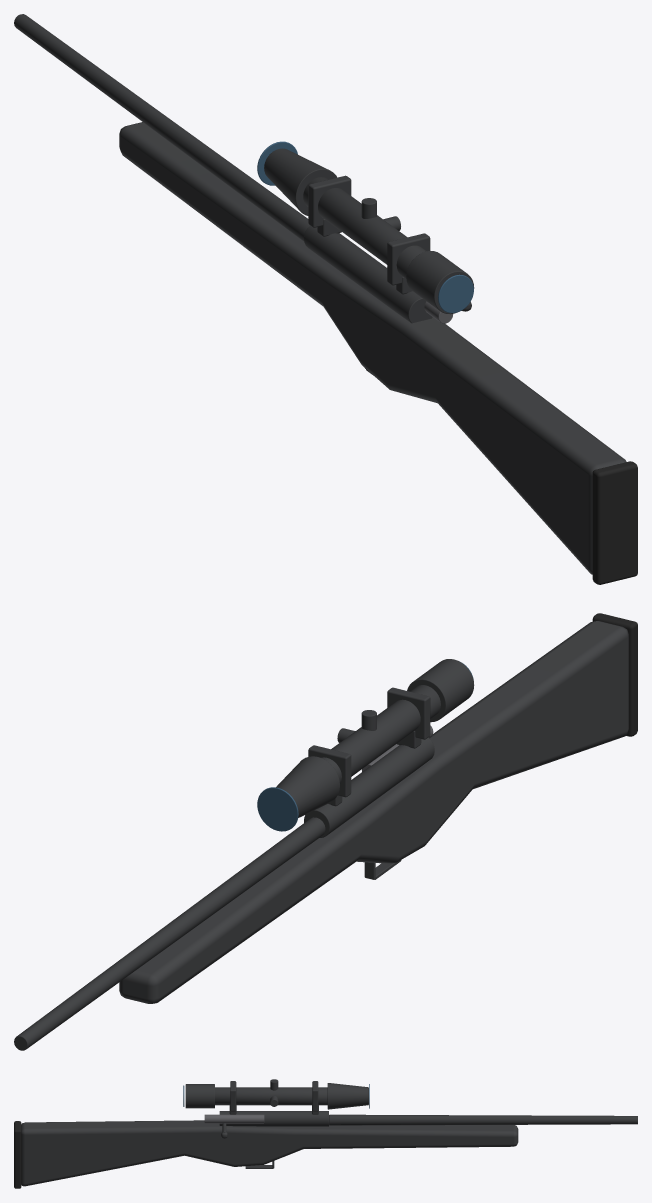
3 views of the same model, one above another, from view 1: azimuth 30°, elevation 25°; view 2: azimuth 150°, elevation 25°; view 3: azimuth 270°, elevation 25° (orthographic). The views are drawn at different scales.
Parts seen in each view (by area): view 1: Stock, Barrel, Buttpad, Receiver, ScopeTube, ScopeBell, ScopeEye, ScopeLensR, ScopeRing.001, ScopeRing; view 2: Stock, Barrel, Receiver, ScopeTube, ScopeBell, ScopeEye, ScopeLensF, Buttpad, ScopeRing, ScopeRing.001; view 3: Stock, Barrel, ScopeTube, Receiver, ScopeBell, ScopeEye, Bolt, Buttpad, ScopeRing.001, ScopeRing.
Part boxes in pixels (box(x1,y1,x2,y2)): Stock: box(119, 122, 626, 574); Barrel: box(14, 14, 309, 241); Buttpad: box(592, 461, 637, 584); Receiver: box(304, 225, 432, 323); ScopeTube: box(303, 177, 426, 278); ScopeBell: box(264, 148, 337, 215); ScopeEye: box(406, 250, 474, 314); ScopeLensR: box(438, 274, 473, 313); ScopeRing.001: box(308, 175, 351, 227); ScopeRing: box(387, 233, 430, 285); Stock: box(119, 621, 628, 1003); Barrel: box(14, 817, 325, 1050); Receiver: box(304, 737, 434, 837); ScopeTube: box(321, 685, 440, 783); ScopeBell: box(276, 756, 339, 817); ScopeEye: box(407, 659, 474, 722); ScopeLensF: box(257, 787, 298, 831); Buttpad: box(592, 613, 637, 736); ScopeRing: box(387, 687, 430, 739); ScopeRing.001: box(308, 745, 351, 797); Stock: box(21, 1120, 518, 1186); Barrel: box(329, 1114, 637, 1125); ScopeTube: box(215, 1087, 327, 1105); Receiver: box(219, 1111, 328, 1126); ScopeBell: box(327, 1083, 368, 1109); ScopeEye: box(185, 1084, 214, 1108); Bolt: box(204, 1114, 264, 1123); Buttpad: box(14, 1121, 21, 1188); ScopeRing.001: box(312, 1081, 318, 1111); ScopeRing: box(230, 1081, 236, 1111).
Size of the model in its own units: 0.0919 by 0.2292 by 1.25.
